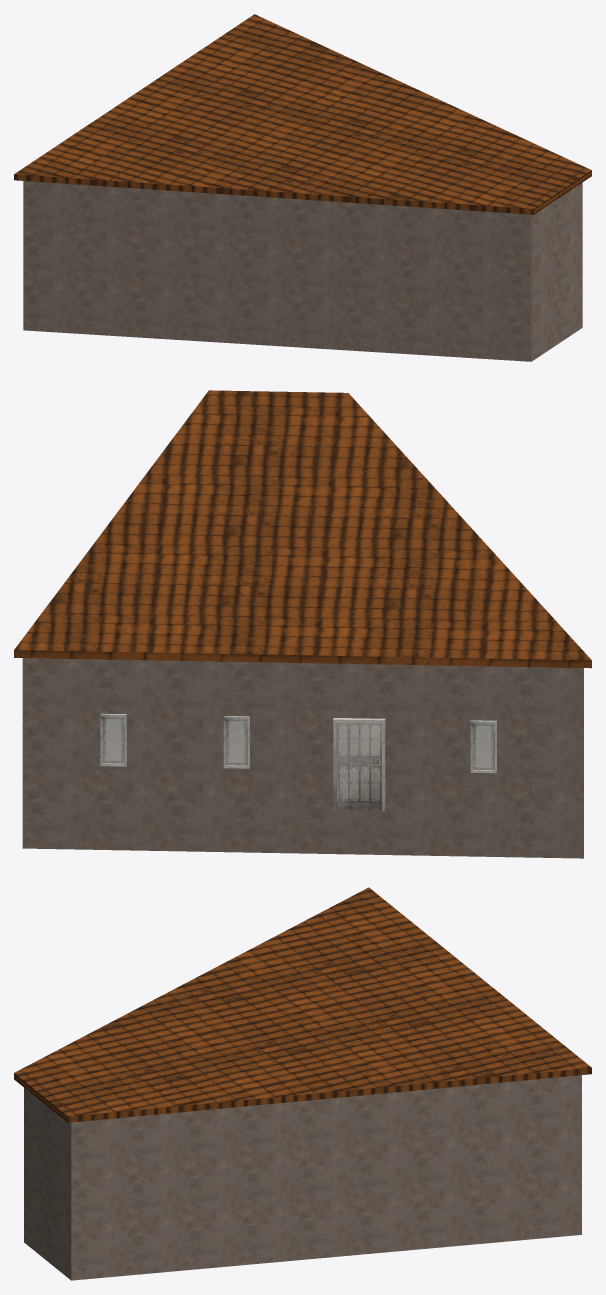
Rendered from Casa_9.fbx.
3 views of the same model, one above another, from view 1: azimuth 30°, elevation 25°; view 2: azimuth 150°, elevation 25°; view 3: azimuth 270°, elevation 25° (orthographic). The views are drawn at different scales.
Parts seen in each view (by area): view 1: Casa_9; view 2: Casa_9; view 3: Casa_9.
Part boxes in pixels (x1,y1,x2,y2): Casa_9: (14, 14, 591, 361); Casa_9: (14, 390, 591, 858); Casa_9: (14, 887, 591, 1280).
Size of the model in its own units: 11.69 by 4 by 12.47.
